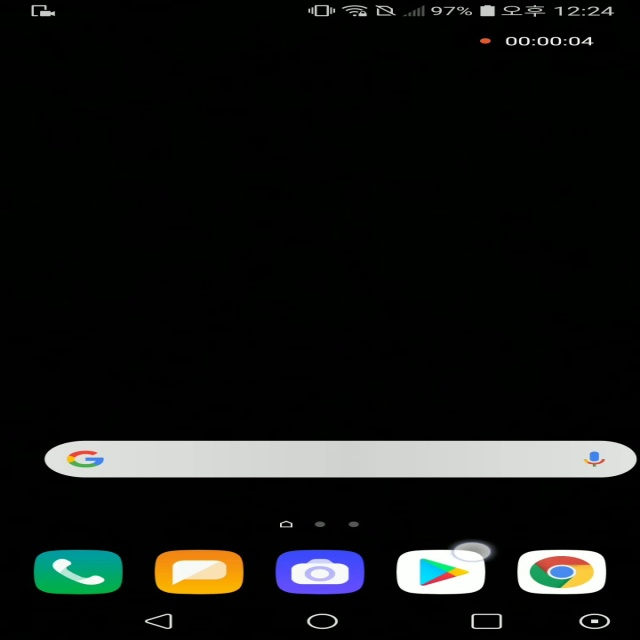Cursor: (453, 543, 497, 565)
